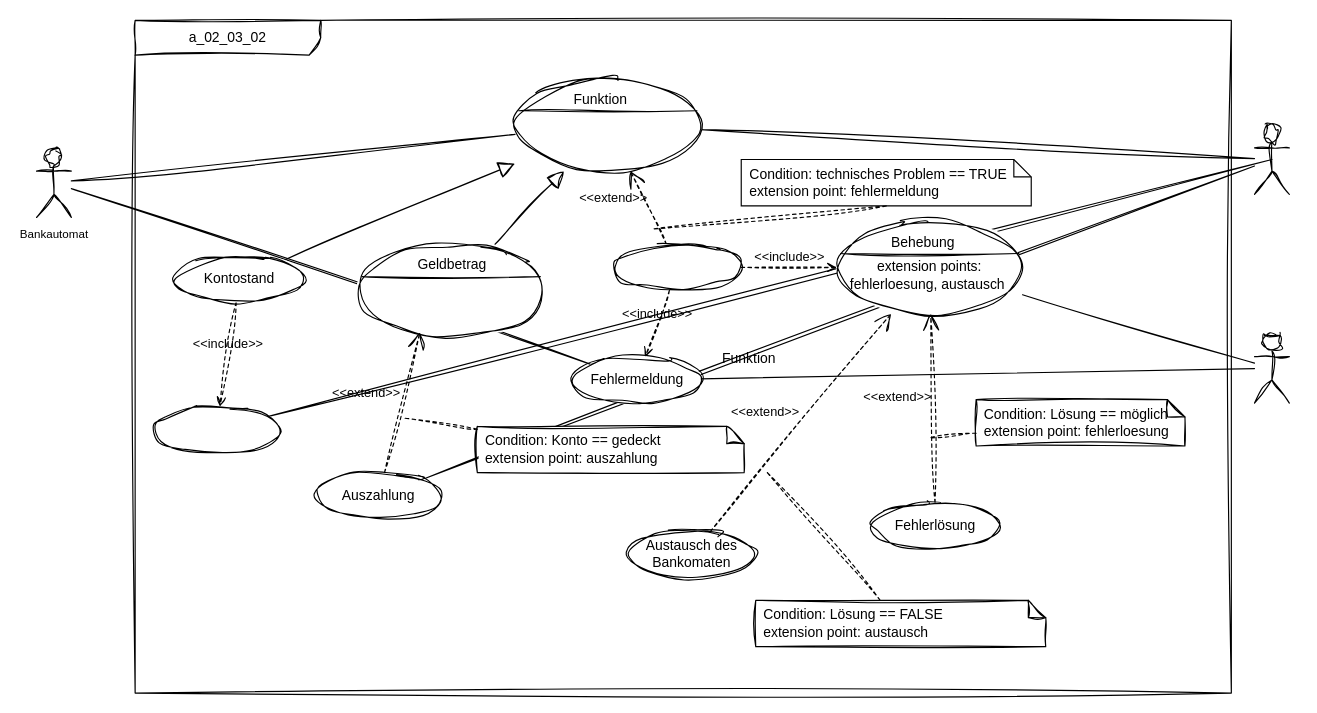
Image size: 1317x713. Some labels were removed from this diagram. Each missing label, with the box of its shape:
extension point: auszahlung: (357, 243, 544, 337)
extension point: fehlermeldung: (514, 77, 701, 171)
Kunde: (1253, 124, 1289, 194)
Problem: (612, 243, 741, 291)
Techniker: (1253, 332, 1289, 403)
zeigen: (151, 405, 280, 453)
